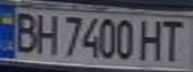0: (115, 16, 139, 61), (97, 16, 118, 60)
4: (78, 15, 100, 60)
7: (60, 12, 84, 57)
B: (9, 9, 42, 54)
H: (30, 10, 60, 55), (136, 17, 166, 62)
T: (157, 17, 190, 62)
